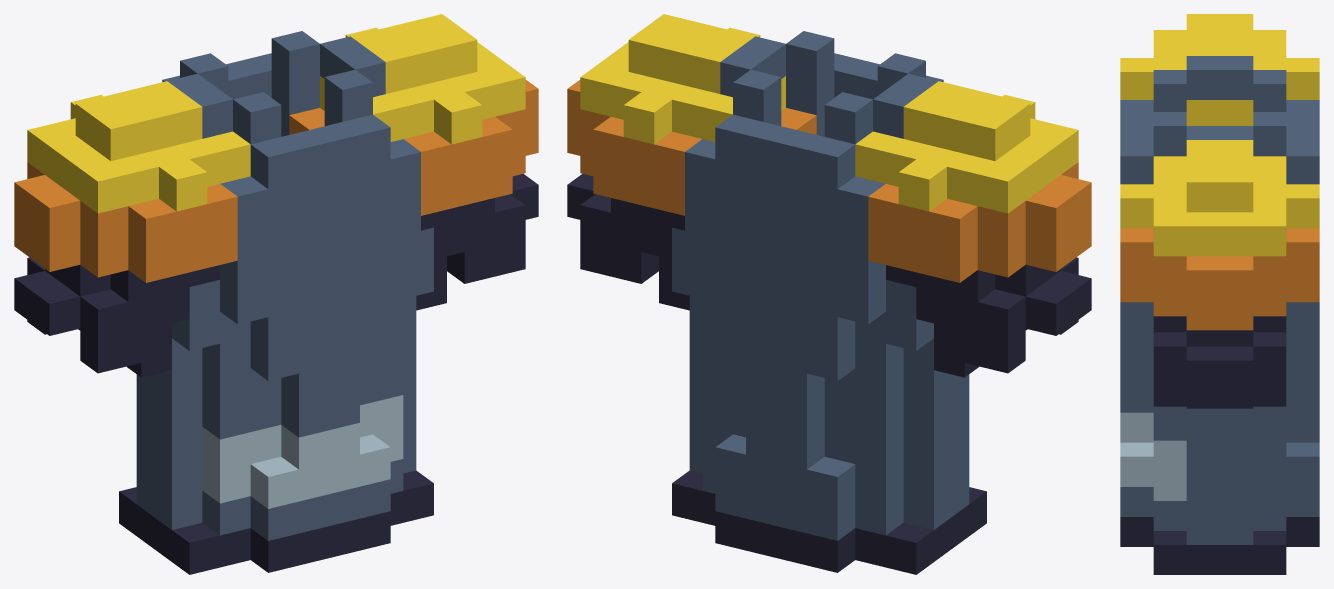
The model's file is item_ARMOR_WARRIOR.glb.
3 renders of one model, left to right at view 1: azimuth 30°, elevation 25°; view 2: azimuth 150°, elevation 25°; view 3: azimuth 270°, elevation 25°, orthographic. The views are drawn at different scales.
Parts seen in each view (by area): view 1: item_ARMOR_WARRIOR; view 2: item_ARMOR_WARRIOR; view 3: item_ARMOR_WARRIOR.
Boxes of the visible parts, <box> form: item_ARMOR_WARRIOR: <box>14,14,538,574</box>; item_ARMOR_WARRIOR: <box>567,14,1091,574</box>; item_ARMOR_WARRIOR: <box>1120,14,1319,574</box>.
Size of the model in its own units: 0.3636 by 0.3182 by 0.1364.
1 material, 1 textured.
